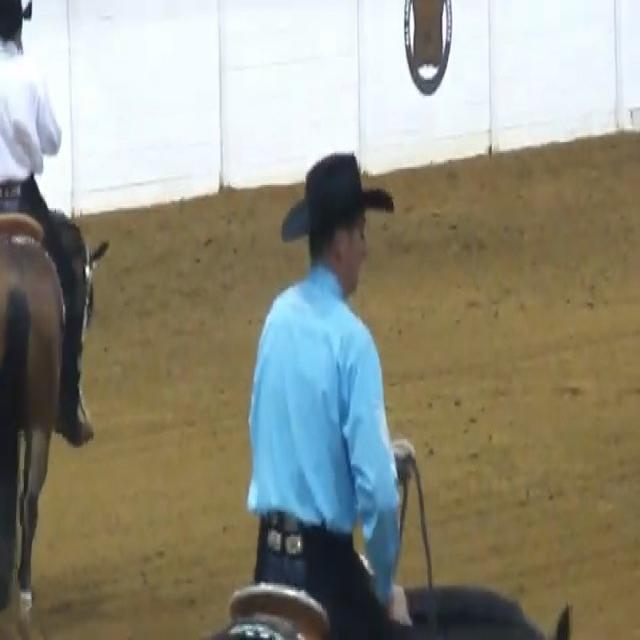horse: (0, 23, 126, 640)
